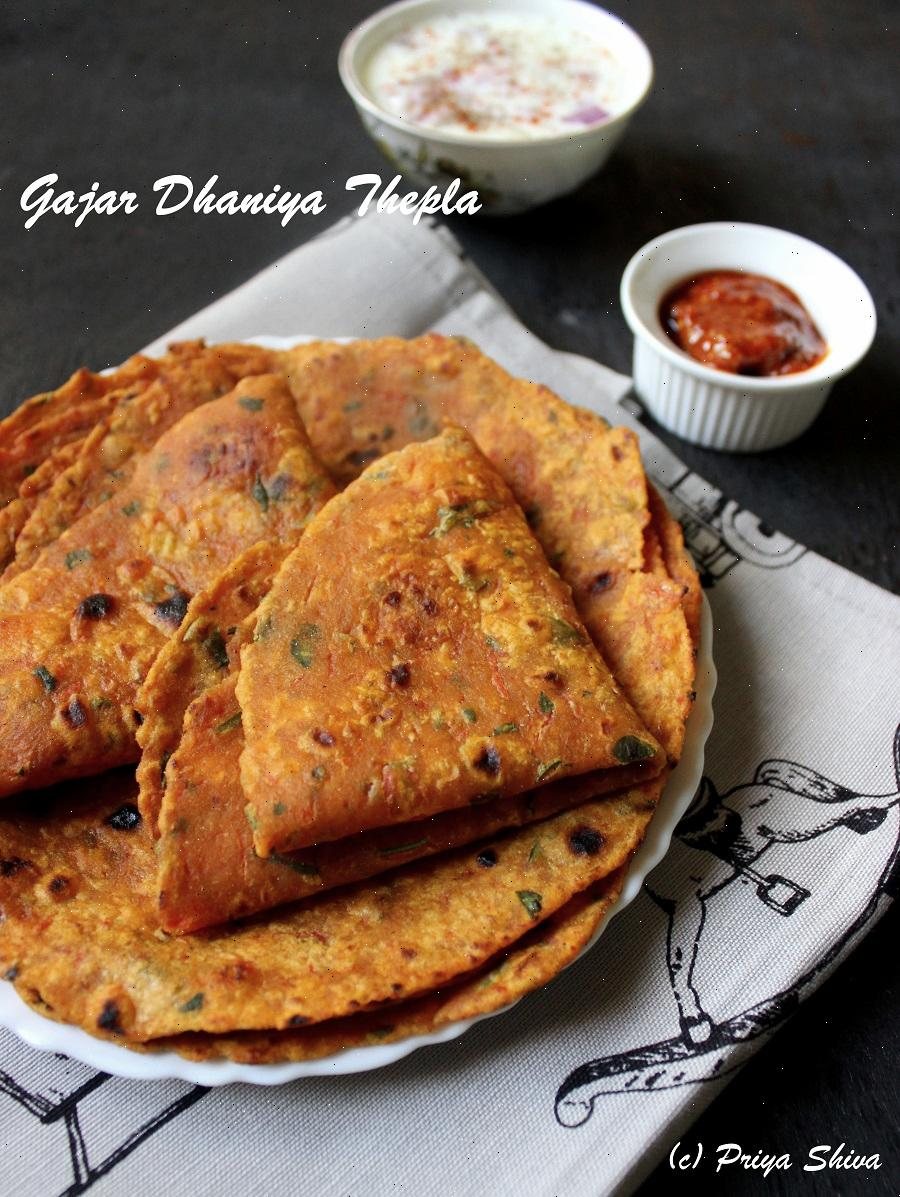thepla: (0, 343, 701, 1068)
